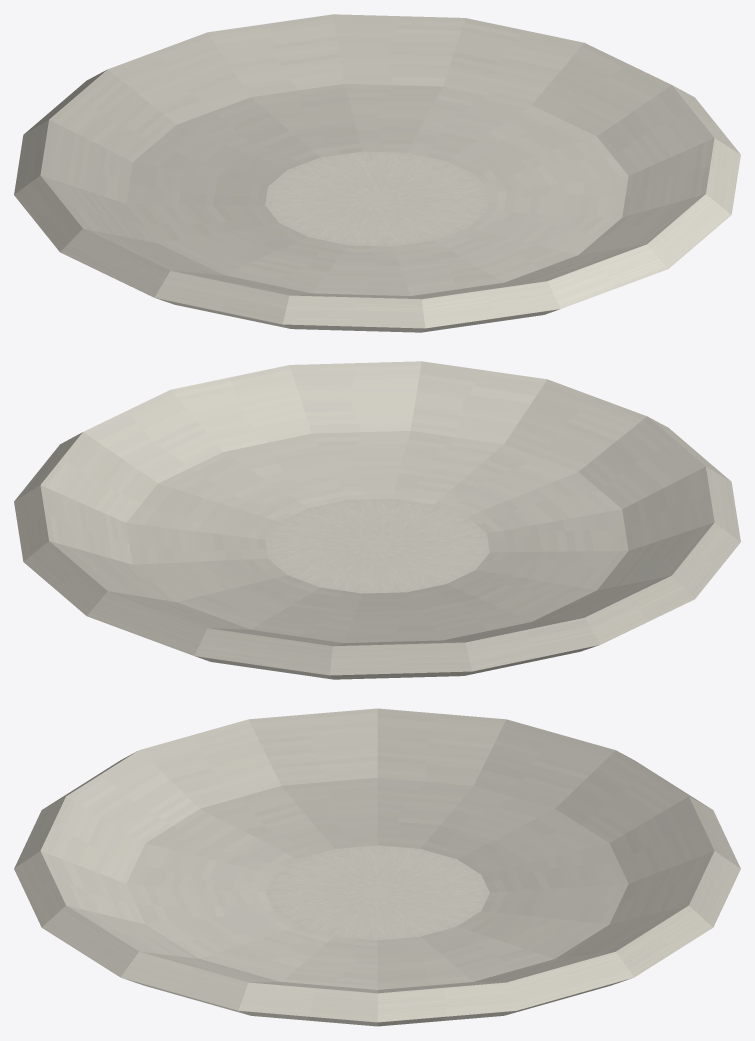
The model's file is plate.glb.
The picture shows the model from 3 angles, top to bottom: view 1: azimuth 30°, elevation 25°; view 2: azimuth 150°, elevation 25°; view 3: azimuth 270°, elevation 25°; orthographic projection.
Parts seen in each view (by area): view 1: home_plate; view 2: home_plate; view 3: home_plate.
Boxes of the visible parts, x1,y1,x2,y2 form: home_plate: (14,14,740,332); home_plate: (14,361,740,679); home_plate: (14,708,740,1026).
Size of the model in its own units: 0.22 by 0.022 by 0.22.
1 material, 1 textured.
